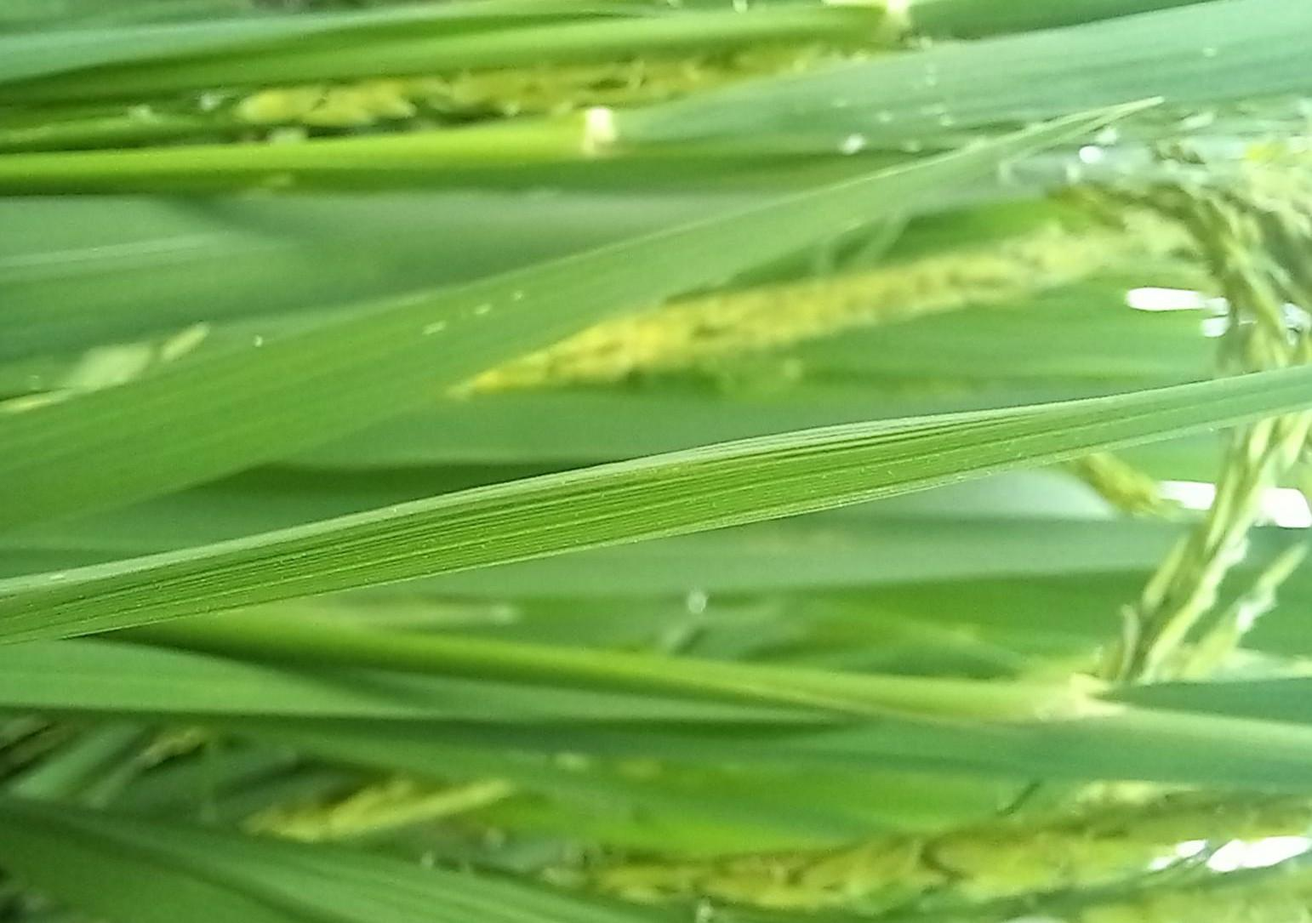Healthy: (0, 366, 1311, 643)
